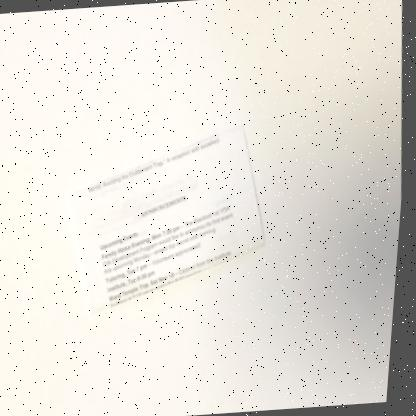Paper: (72, 125, 268, 313)
